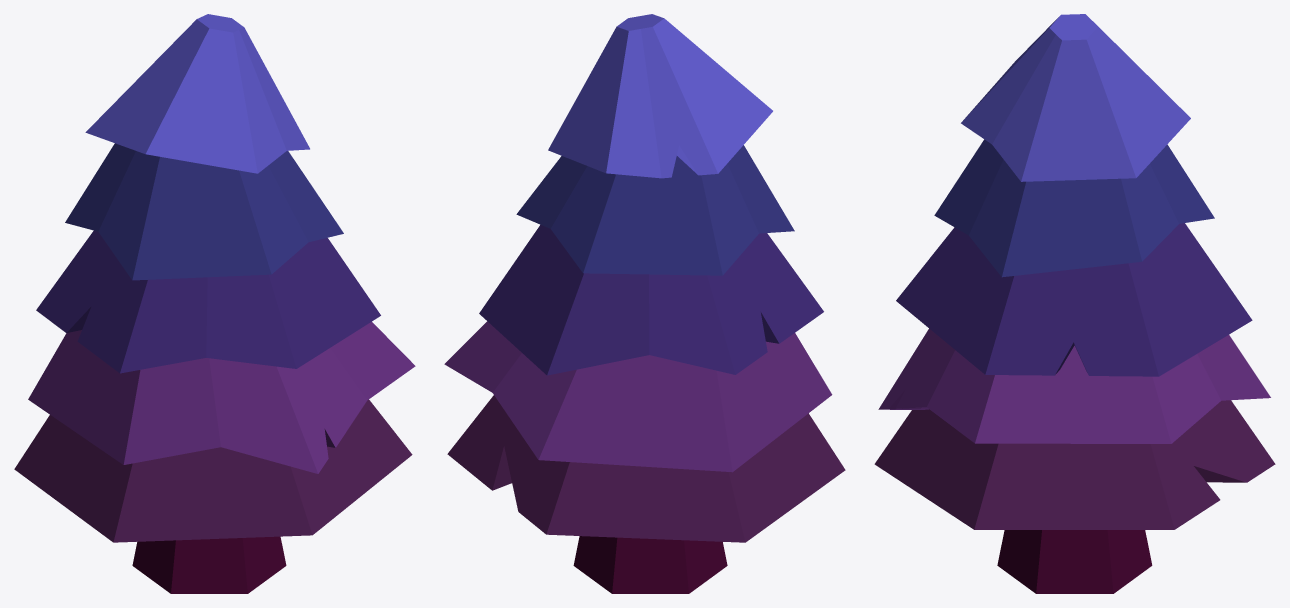
File: blue pinetree.fbx
3 renders of one model, left to right at view 1: azimuth 30°, elevation 25°; view 2: azimuth 150°, elevation 25°; view 3: azimuth 270°, elevation 25°, orthographic.
Visible parts, largest first — view 1: Cylinder; view 2: Cylinder; view 3: Cylinder.
Boxes of the visible parts, box(x1,y1,x2,y2) form: Cylinder: box(14, 14, 415, 593); Cylinder: box(444, 14, 845, 593); Cylinder: box(874, 14, 1275, 593).
Size of the model in its own units: 426 by 731 by 485.
